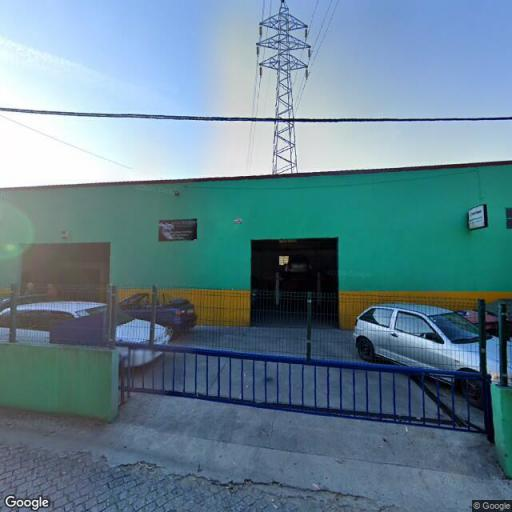ss_3: (258, 0, 313, 176)
